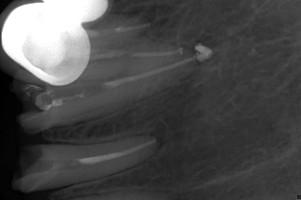Furcation Involvement: (150, 120, 169, 149)
